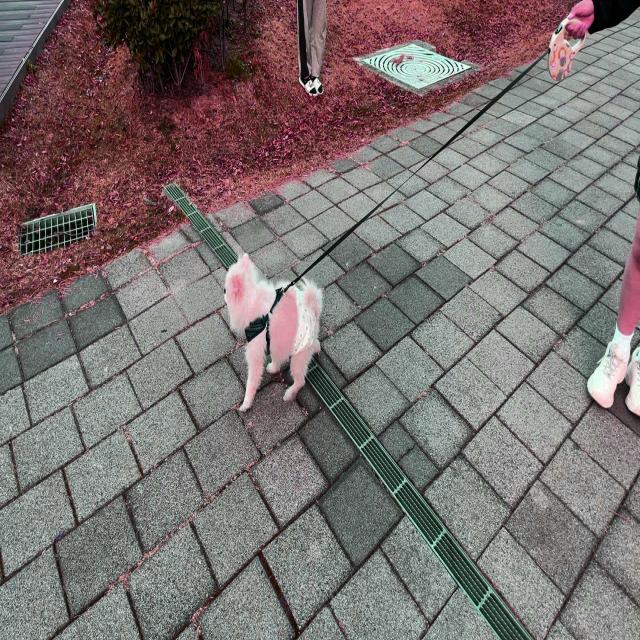Leashed_Dog: (223, 0, 640, 415)
